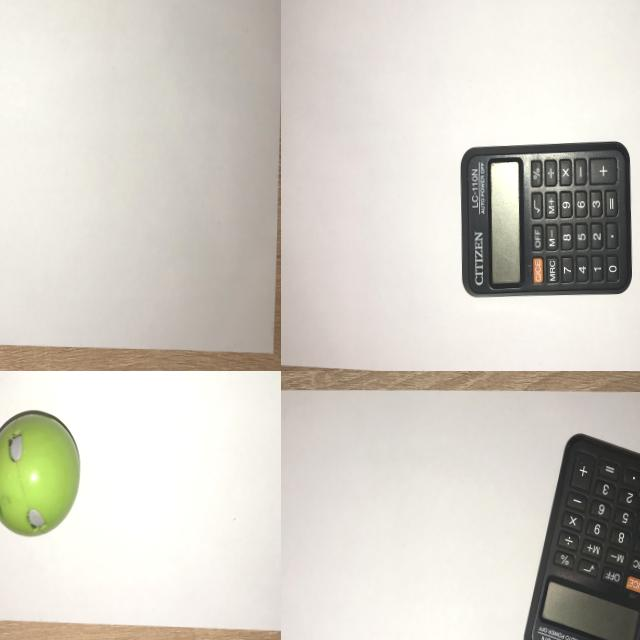calculator: (448, 132, 640, 312), (518, 425, 640, 640)
toy: (0, 402, 87, 542)
